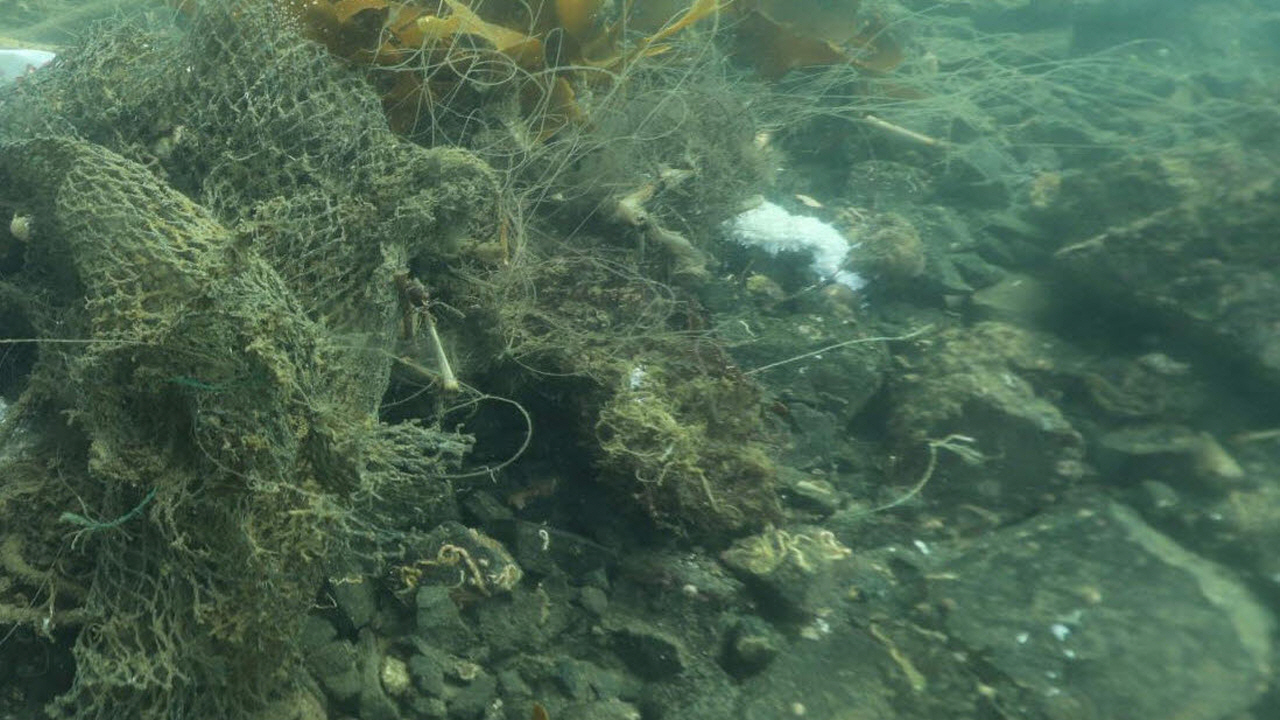fish net: (0, 3, 479, 720)
